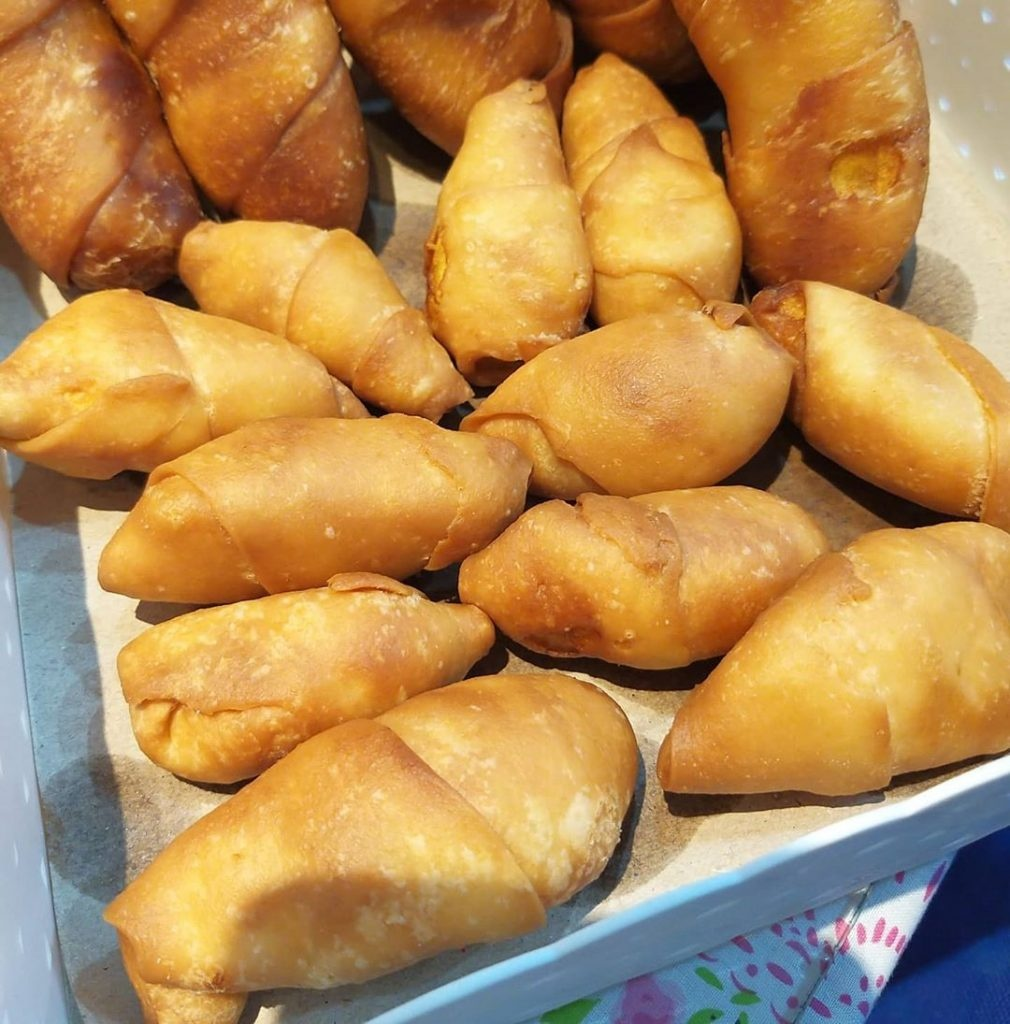pisang_molen: (125, 666, 649, 1019), (93, 583, 496, 788), (469, 268, 807, 495), (95, 412, 510, 595), (455, 485, 833, 672), (1, 286, 373, 475), (420, 74, 585, 362), (561, 55, 736, 319)
